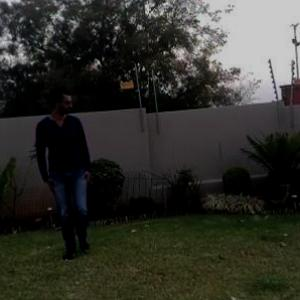follow: (40, 82, 95, 260)
